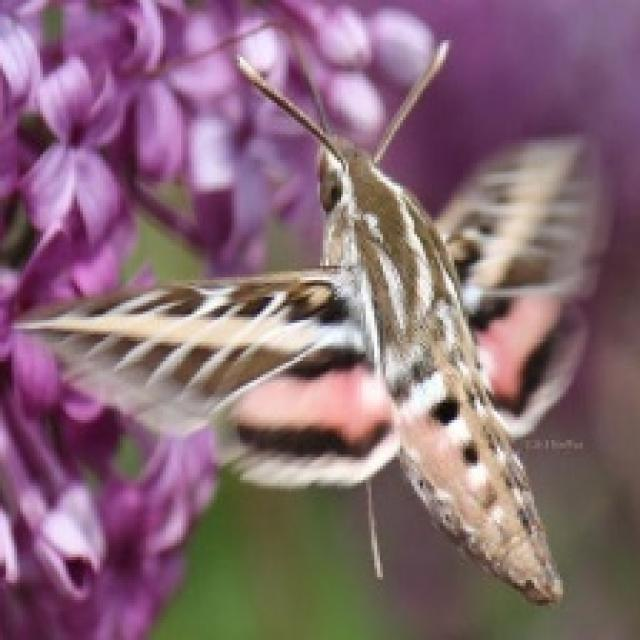butterfly: (9, 34, 612, 606)
